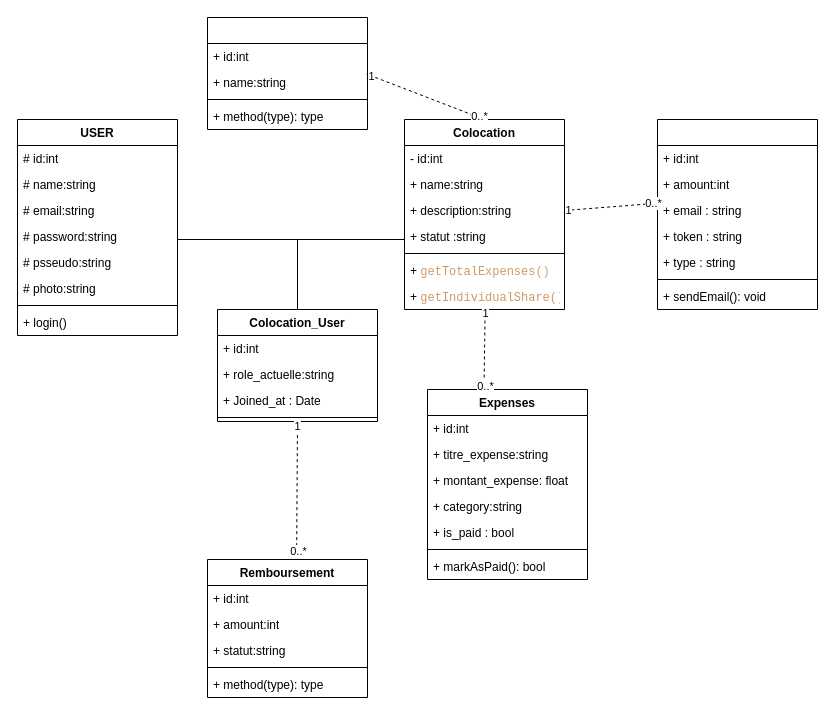
Image size: 835x718. Some labels were removed from this diagram. Here are the shapes that lost their labels. From the top down, the box of each, then its label:
(206, 16, 368, 130): Catégorie
(656, 118, 818, 310): Invitation
